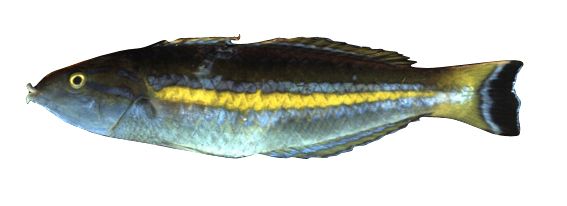fish: (25, 35, 525, 159)
